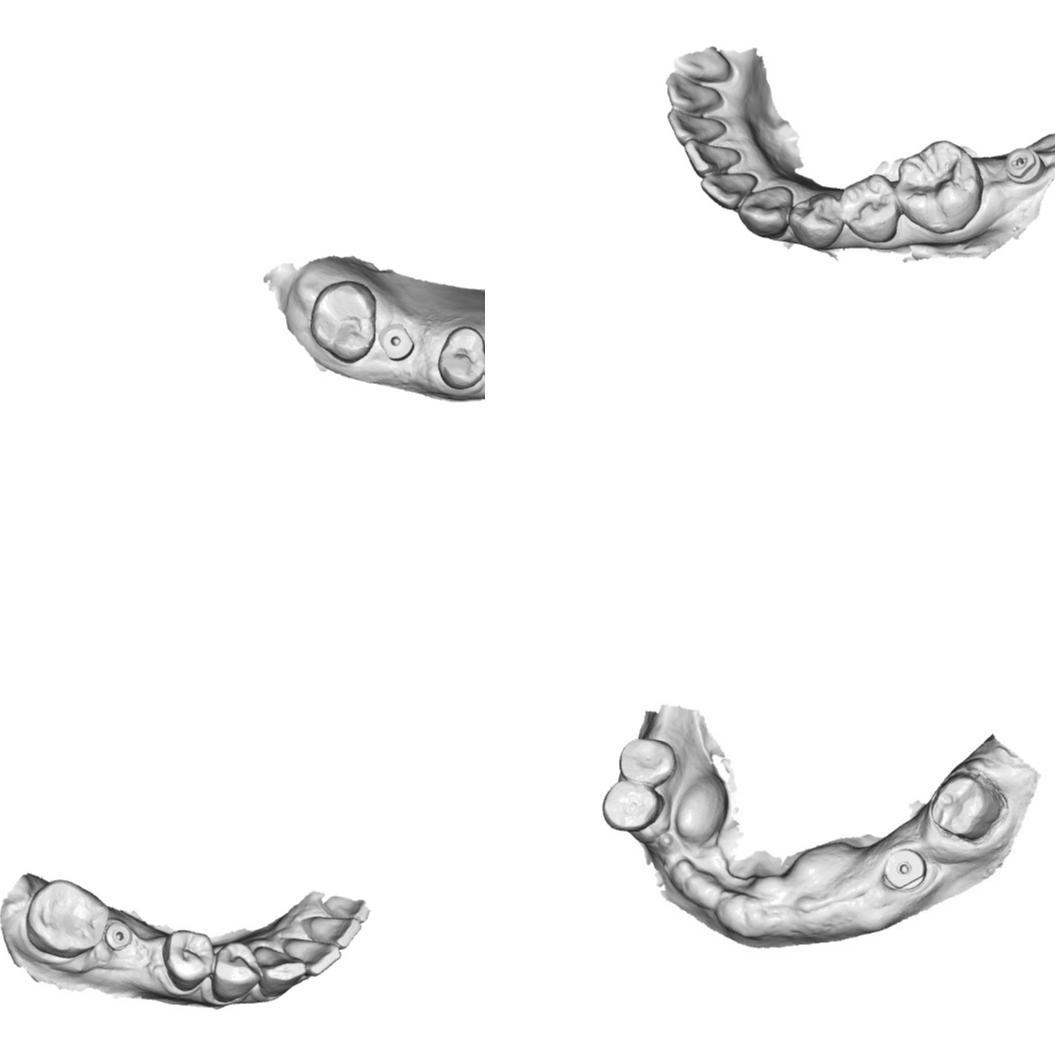canine: (736, 185, 794, 240), (252, 945, 307, 998)
crown: (928, 770, 1008, 844)
implant: (879, 845, 930, 893), (380, 323, 414, 365), (102, 920, 133, 952)
implant_minus: (1004, 146, 1047, 186)
incisor: (662, 70, 723, 114), (664, 108, 730, 146), (698, 170, 759, 211), (282, 936, 342, 977), (682, 138, 746, 176), (300, 916, 362, 949), (319, 895, 371, 922)
molar: (896, 138, 984, 235), (25, 877, 109, 959), (306, 282, 380, 363)
premolar: (838, 172, 901, 244), (161, 929, 214, 992), (210, 940, 263, 1003), (601, 781, 661, 835), (437, 324, 485, 391), (787, 190, 841, 249), (614, 738, 676, 786)
